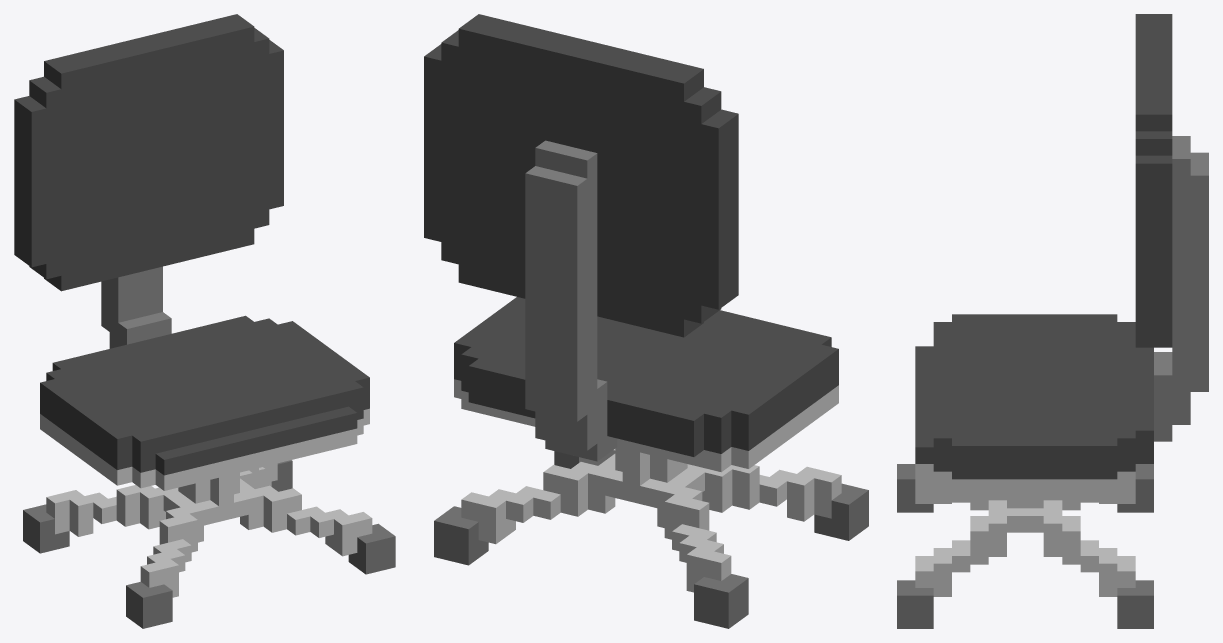
The model's file is Chair2-3.fbx.
3 renders of one model, left to right at view 1: azimuth 30°, elevation 25°; view 2: azimuth 150°, elevation 25°; view 3: azimuth 270°, elevation 25°, orthographic. The views are drawn at different scales.
Visible parts, largest first — view 1: Chair2-3; view 2: Chair2-3; view 3: Chair2-3.
Boxes of the visible parts, left/top/right/bottom form: Chair2-3: left=14, top=14, right=395, bottom=628; Chair2-3: left=424, top=14, right=868, bottom=628; Chair2-3: left=897, top=14, right=1208, bottom=628.
Size of the model in its own units: 1.7 by 3 by 1.7.
